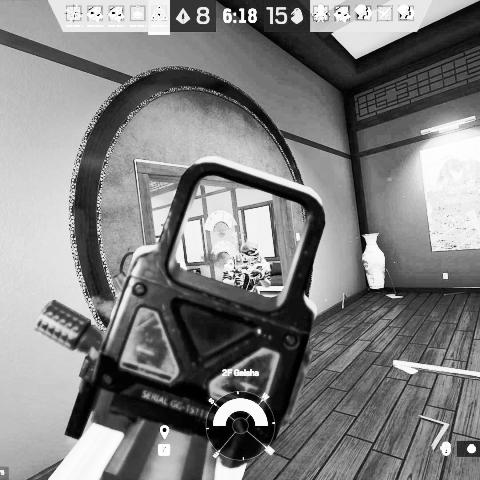Character: (220, 240, 273, 294)
Head: (240, 240, 262, 262)
